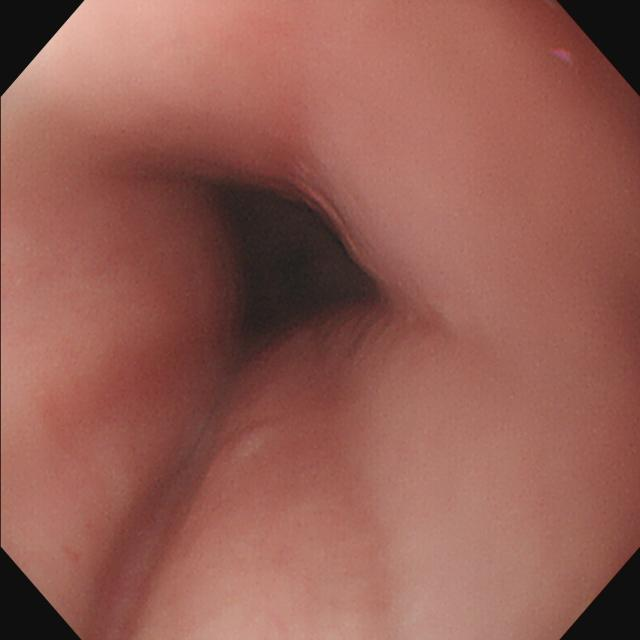E: (216, 180, 379, 346)
